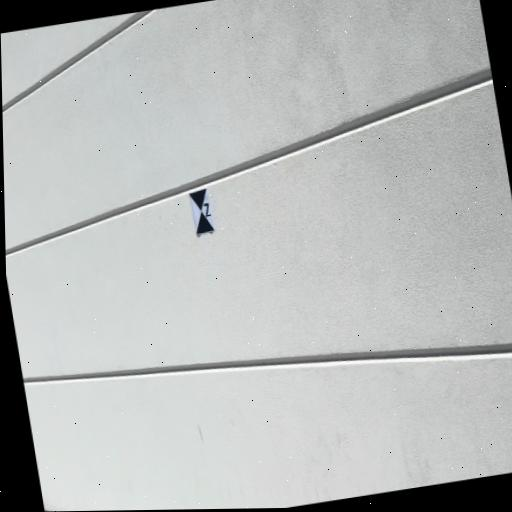target7: (189, 187, 215, 236)
